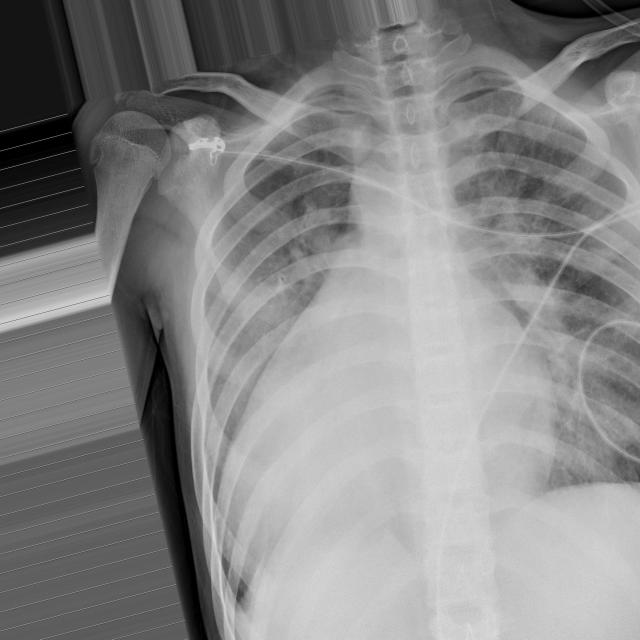viral_pneumonia: (4, 3, 640, 640)
